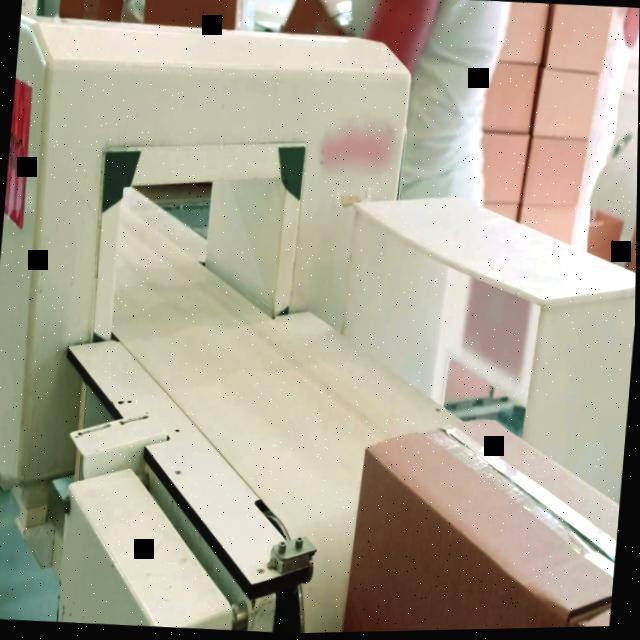box: (343, 409, 627, 634), (576, 605, 612, 630)
